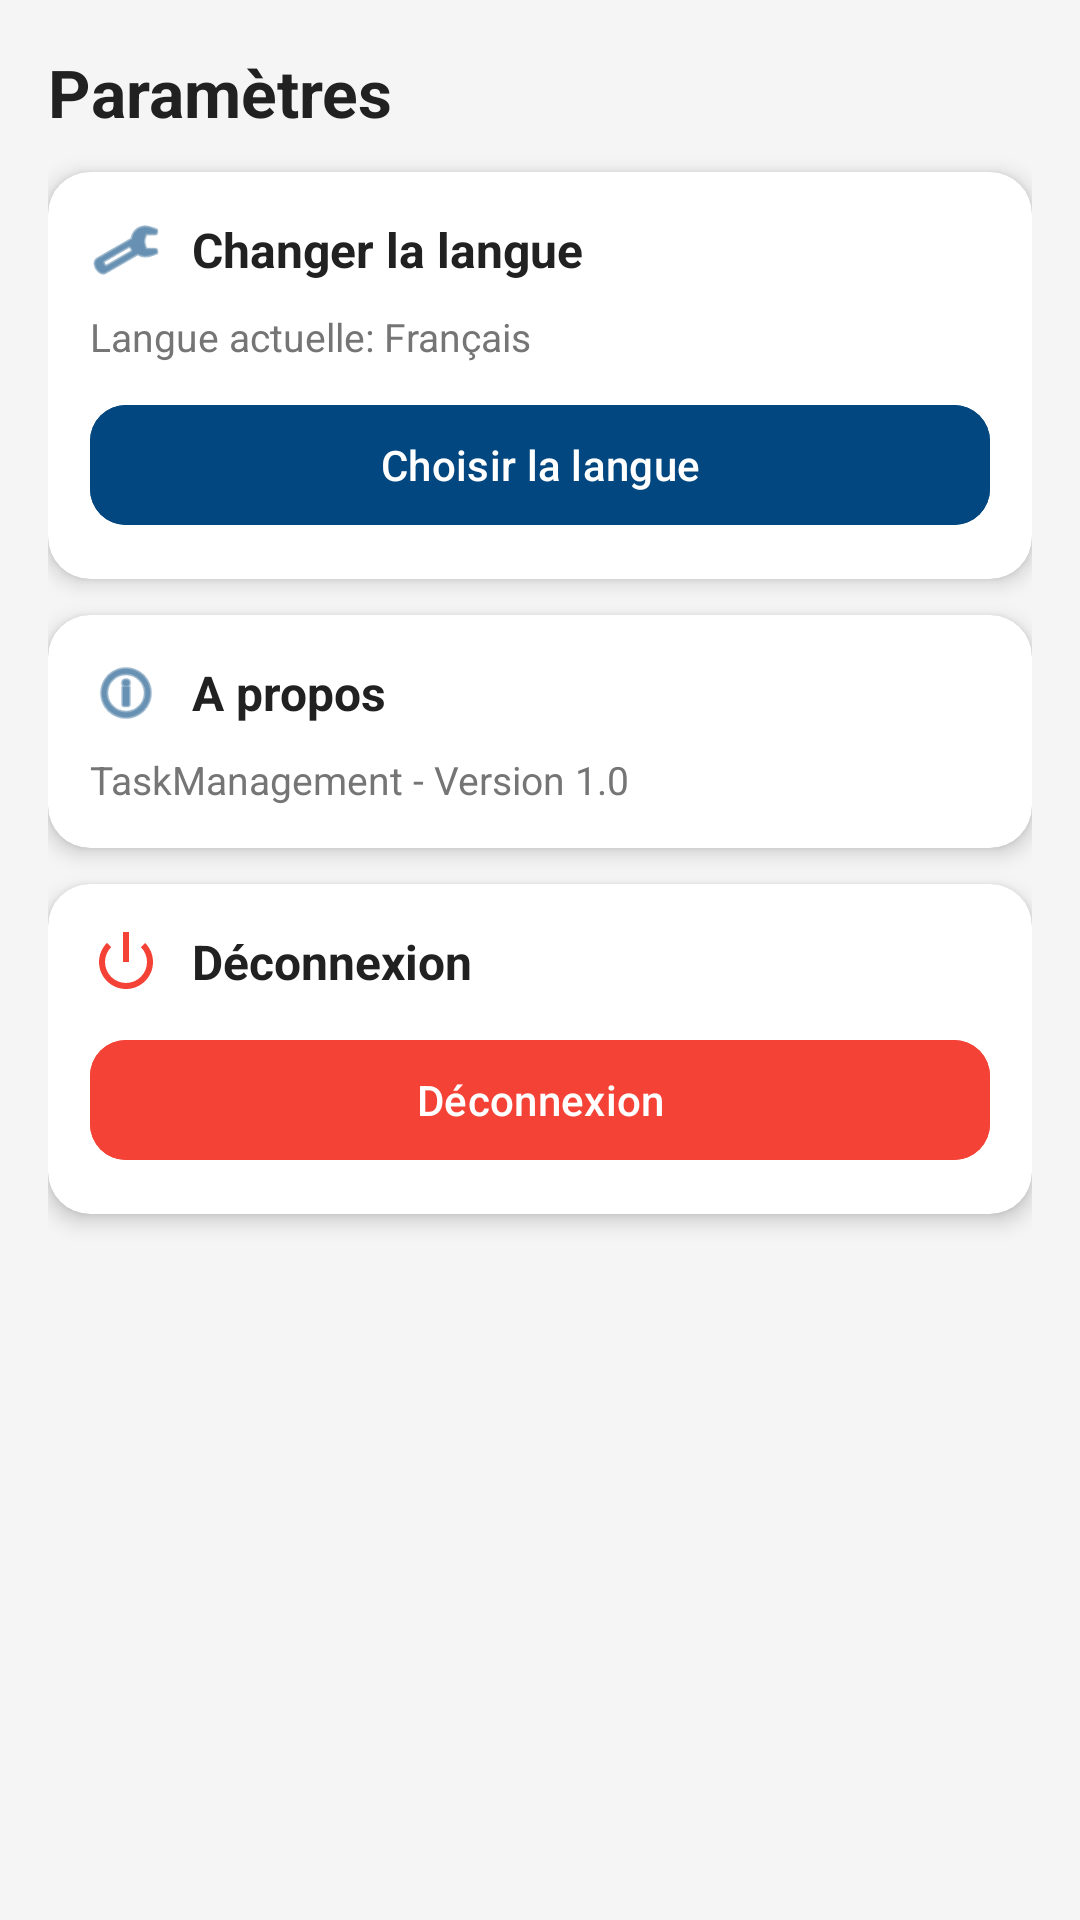

Icon bounding boxes for this 1080x1920 phone screenshot, format bbox=[x1, y1, x2, y2]:
info details: bbox=[100, 667, 152, 719]
lock power off: bbox=[99, 932, 153, 989]
manage: bbox=[93, 225, 158, 275]
